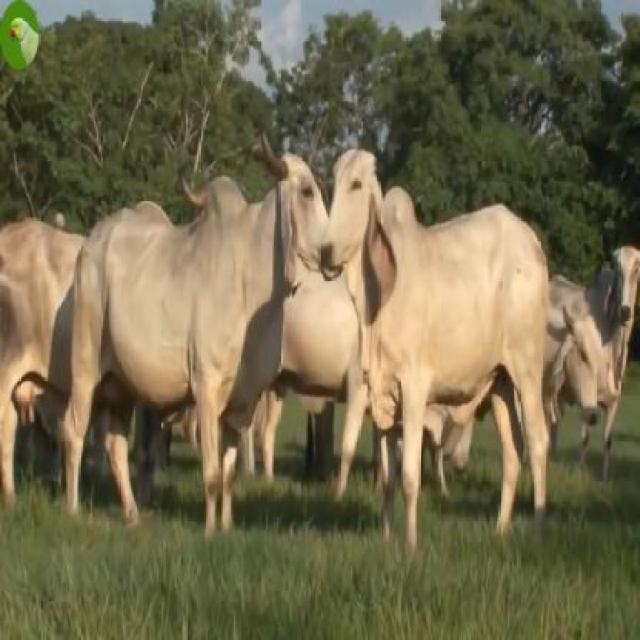Cow: (63, 140, 332, 554), (322, 142, 549, 560)
